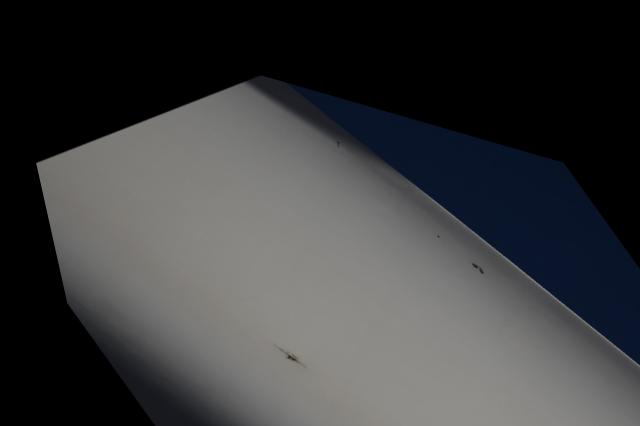damage: (259, 324, 294, 362)
